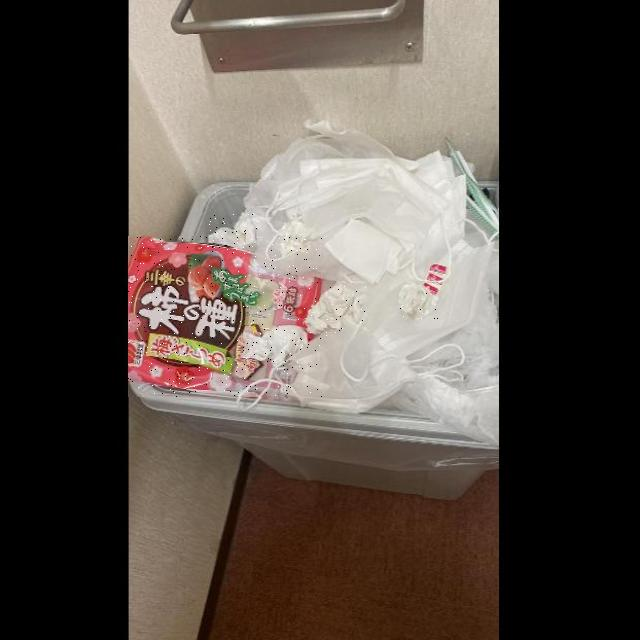paper: (304, 281, 367, 336), (242, 325, 308, 368), (208, 213, 259, 254), (400, 282, 438, 322)
wrapper: (128, 236, 322, 397)
